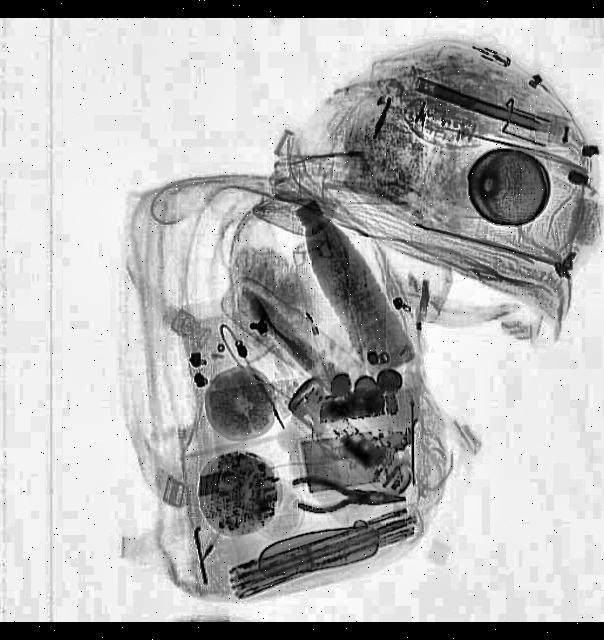Pliers: (289, 477, 403, 519)
